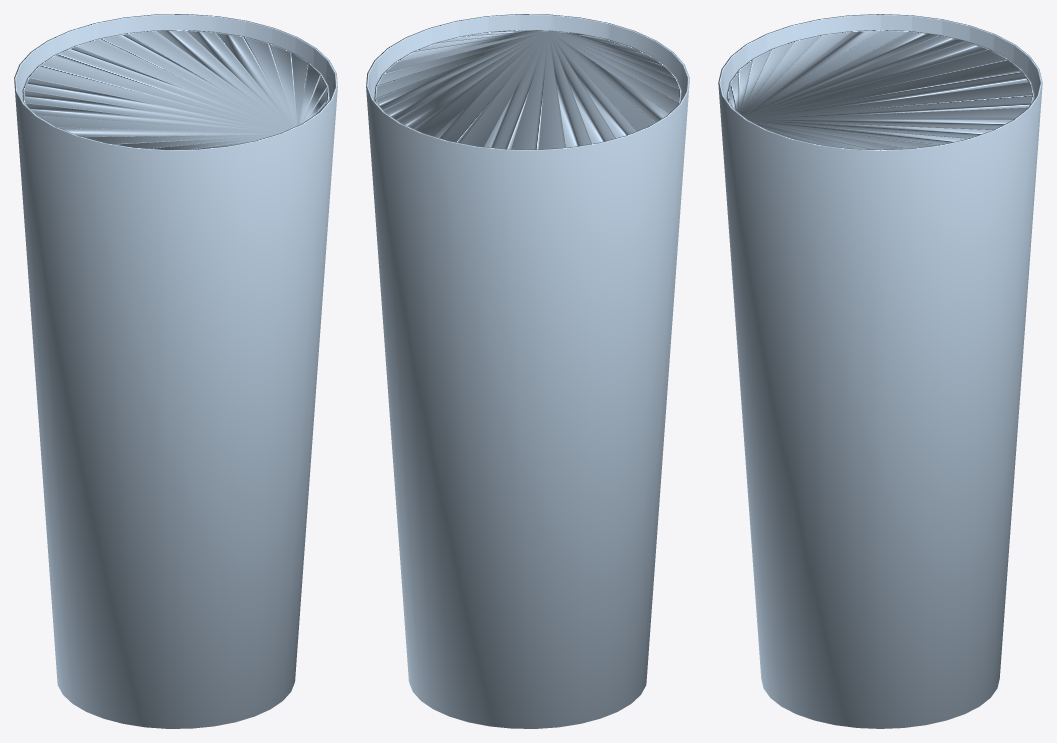
File: Cup_Made_By_Tyro_Smith1.fbx
The picture shows the model from 3 angles, left to right: view 1: azimuth 30°, elevation 25°; view 2: azimuth 150°, elevation 25°; view 3: azimuth 270°, elevation 25°; orthographic projection.
Parts seen in each view (by area): view 1: Cylinder, liquid; view 2: Cylinder, liquid; view 3: Cylinder, liquid.
Boxes of the visible parts, bbox=[...] form: Cylinder: bbox=[14, 14, 337, 728]; liquid: bbox=[22, 29, 329, 149]; Cylinder: bbox=[366, 14, 689, 728]; liquid: bbox=[374, 29, 681, 149]; Cylinder: bbox=[718, 14, 1042, 728]; liquid: bbox=[726, 30, 1034, 149].
Size of what is drawn, in the model's own units: 213 by 431 by 213.
